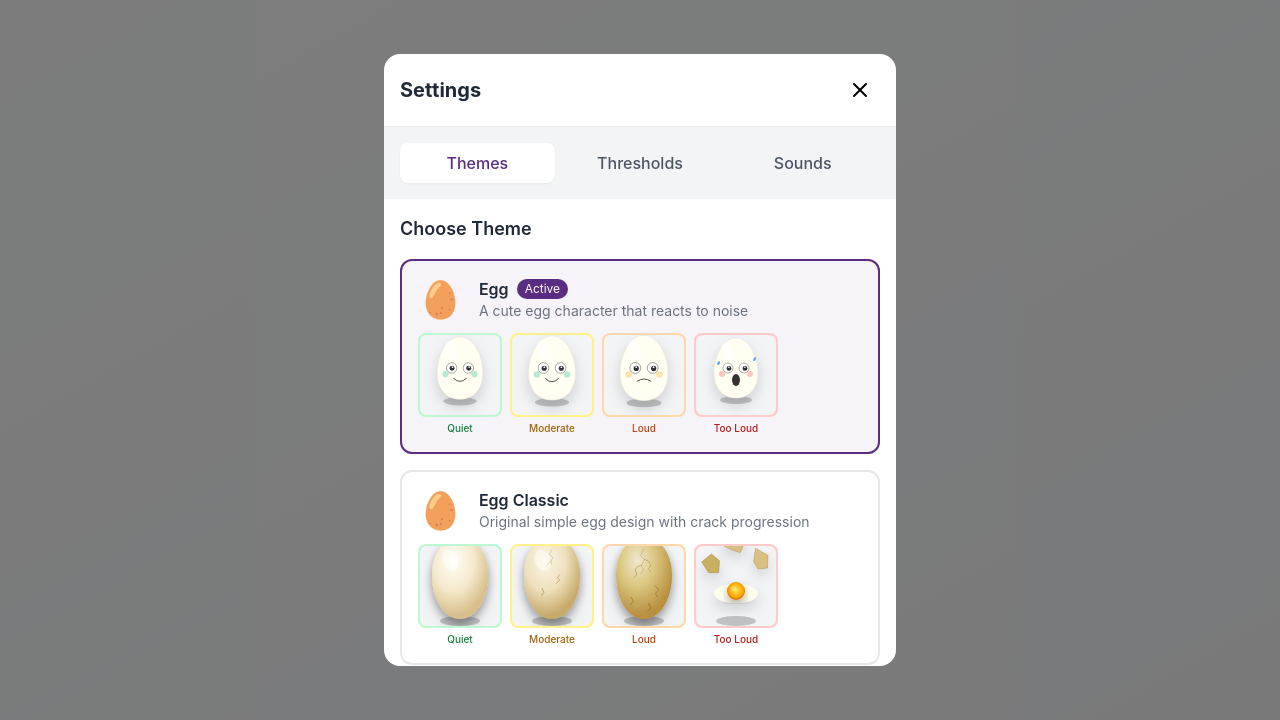
Test: threshold inputs › surfaces an ordering error next to the offending field
The image size is (1280, 720).
Click the button "Thresholds" at coordinates (640, 163), box left=563, top=143, right=717, bottom=183
(page scrolled)
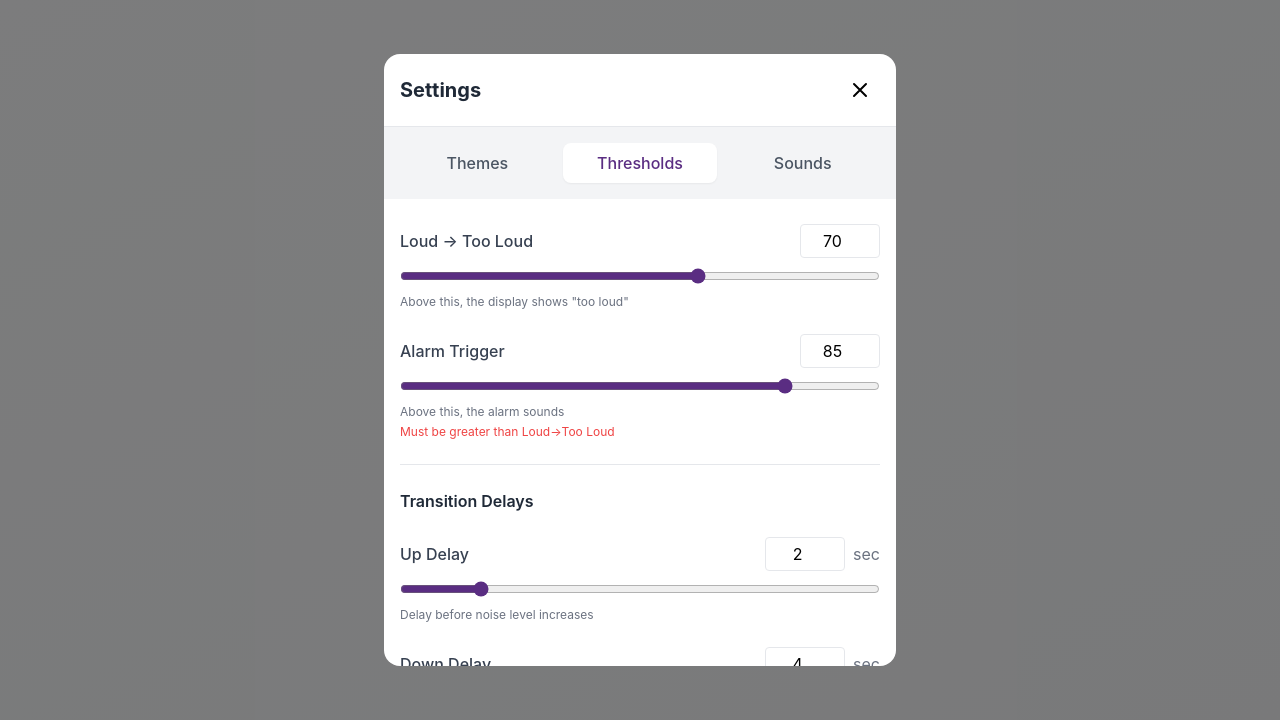
Check: the text "Must be greater than Loud→Too Loud" is shown, box left=400, top=424, right=615, bottom=439
